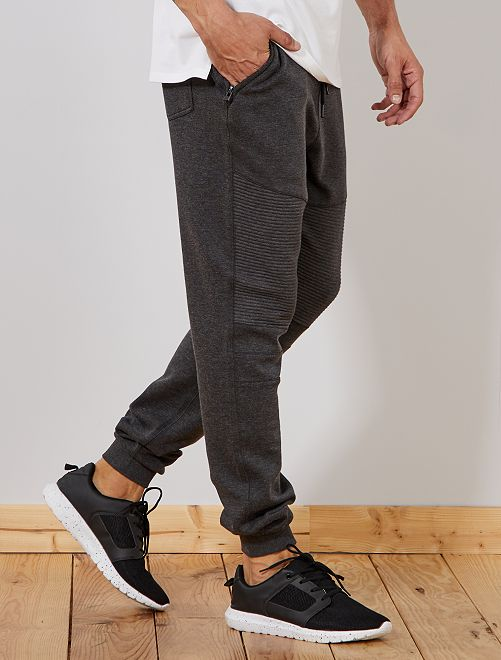feet: (44, 324, 402, 650)
